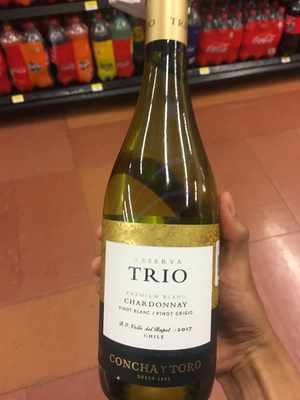trio chardonnay: (96, 27, 223, 400)
